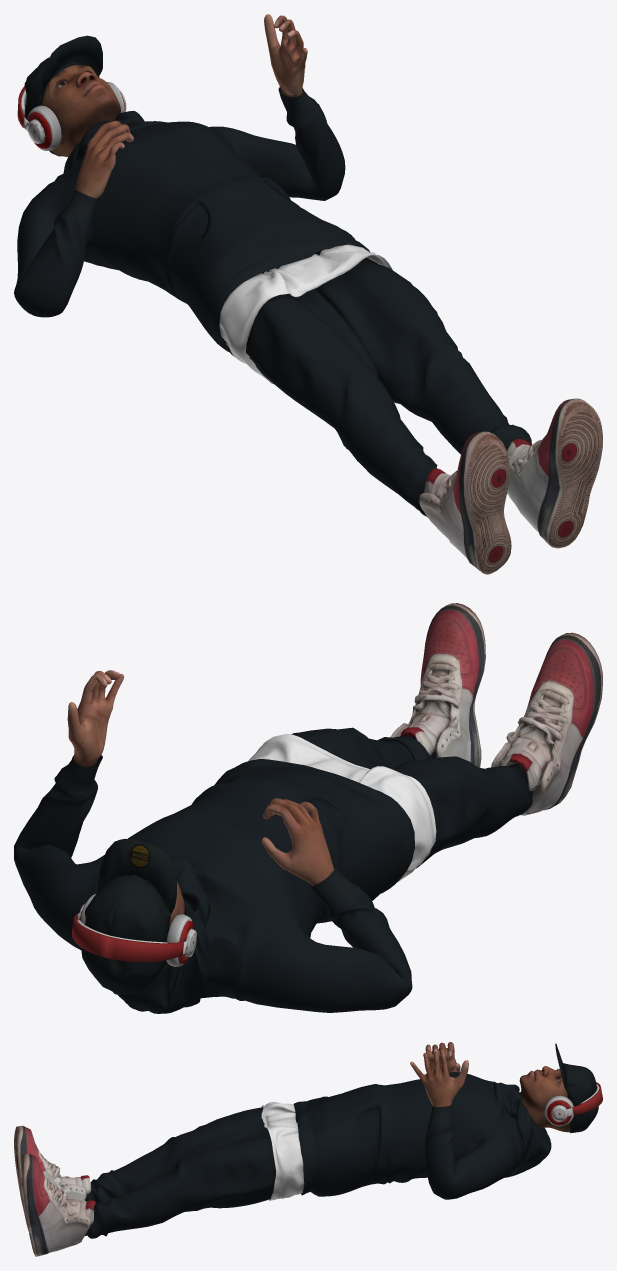
File: pelao-cuerpo-v1.glb
3 renders of one model, top to bottom at view 1: azimuth 30°, elevation 25°; view 2: azimuth 150°, elevation 25°; view 3: azimuth 270°, elevation 25°, orthographic. The views are drawn at different scales.
Parts seen in each view (by area): view 1: Pelao.001; view 2: Pelao.001; view 3: Pelao.001.
Part boxes in pixels (x1,y1,x2,y2): Pelao.001: (14,14,602,574); Pelao.001: (14,603,602,1013); Pelao.001: (14,1042,602,1256).
Bounding box in the file's own units: 5.15 × 4.59 × 11.4.
3 materials, 3 textured.
